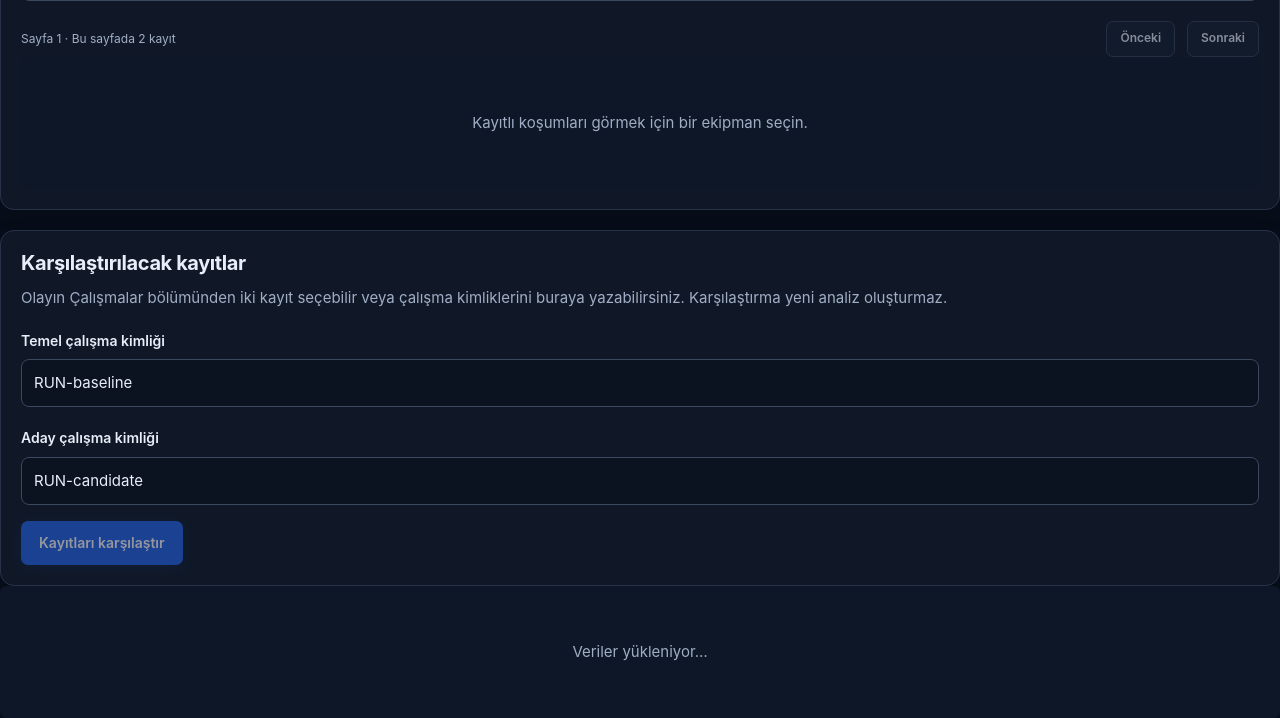
Test: recorded comparison workspace › discards an old response when the selection is edited
(page scrolled)
Clear the field labelled "Aday çalışma kimliği" at (640, 481), box [21,457,1259,505]
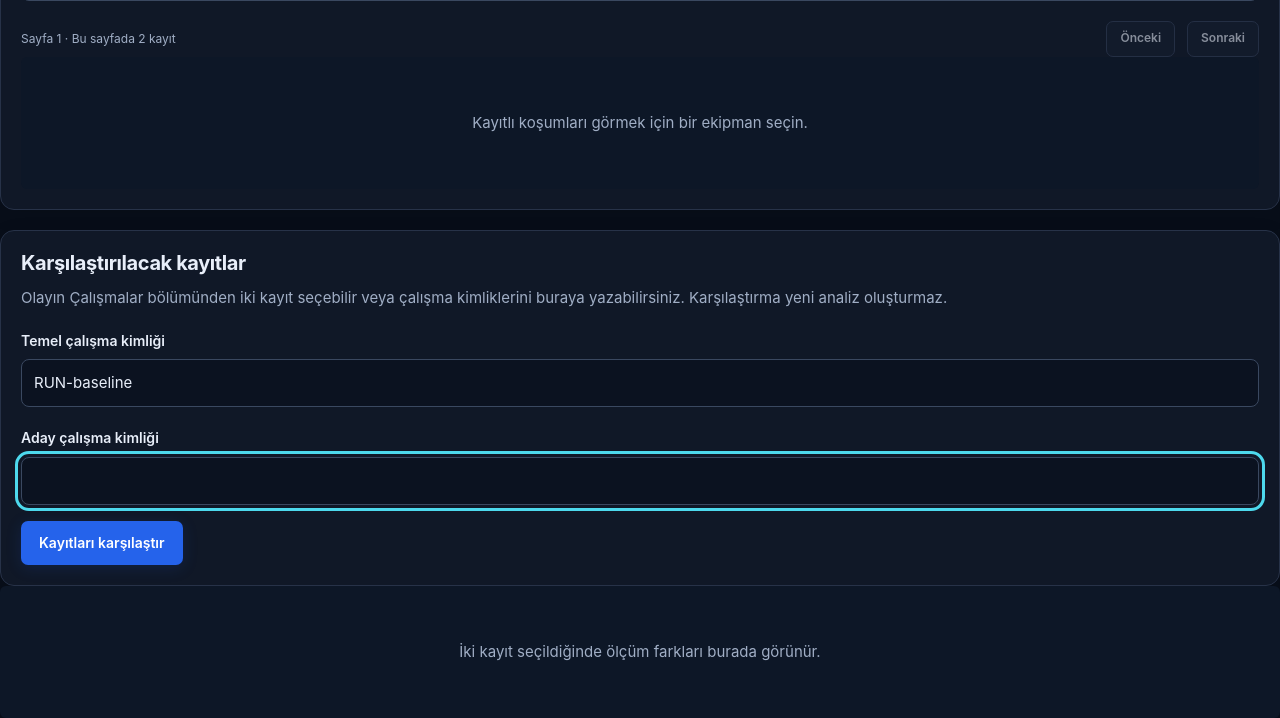
Result: the text "İki kayıt seçildiğinde ölçüm farkları burada görünür." is shown at [0,586,1279,717]
